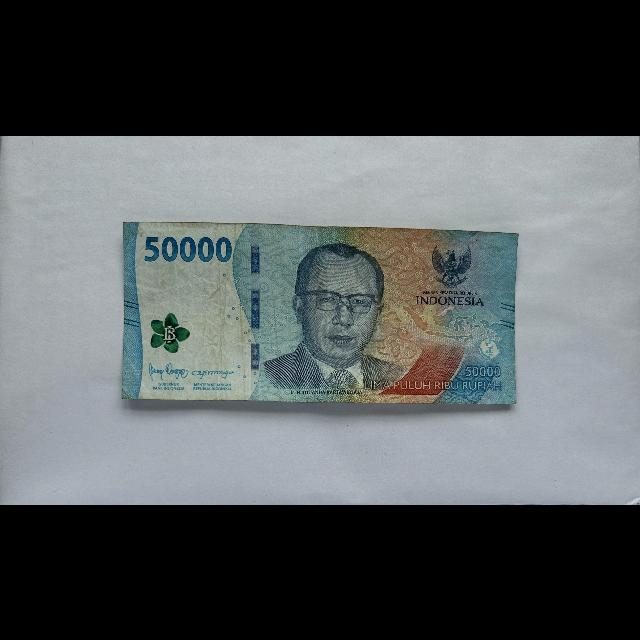Asli-50k: (121, 219, 520, 406)
Tinta-Asli-50k: (149, 311, 191, 353)
